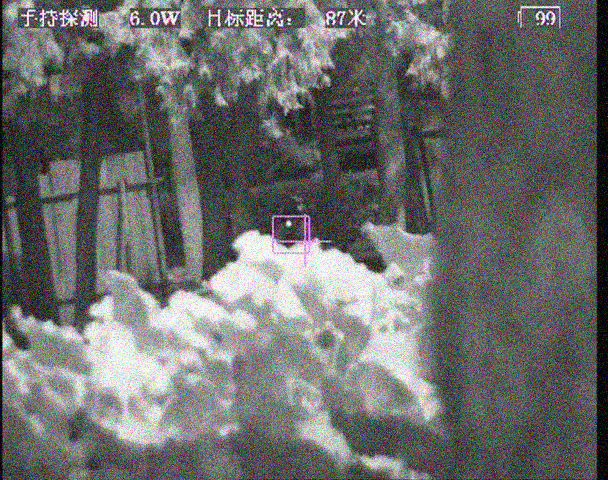my: (285, 219, 295, 228)
